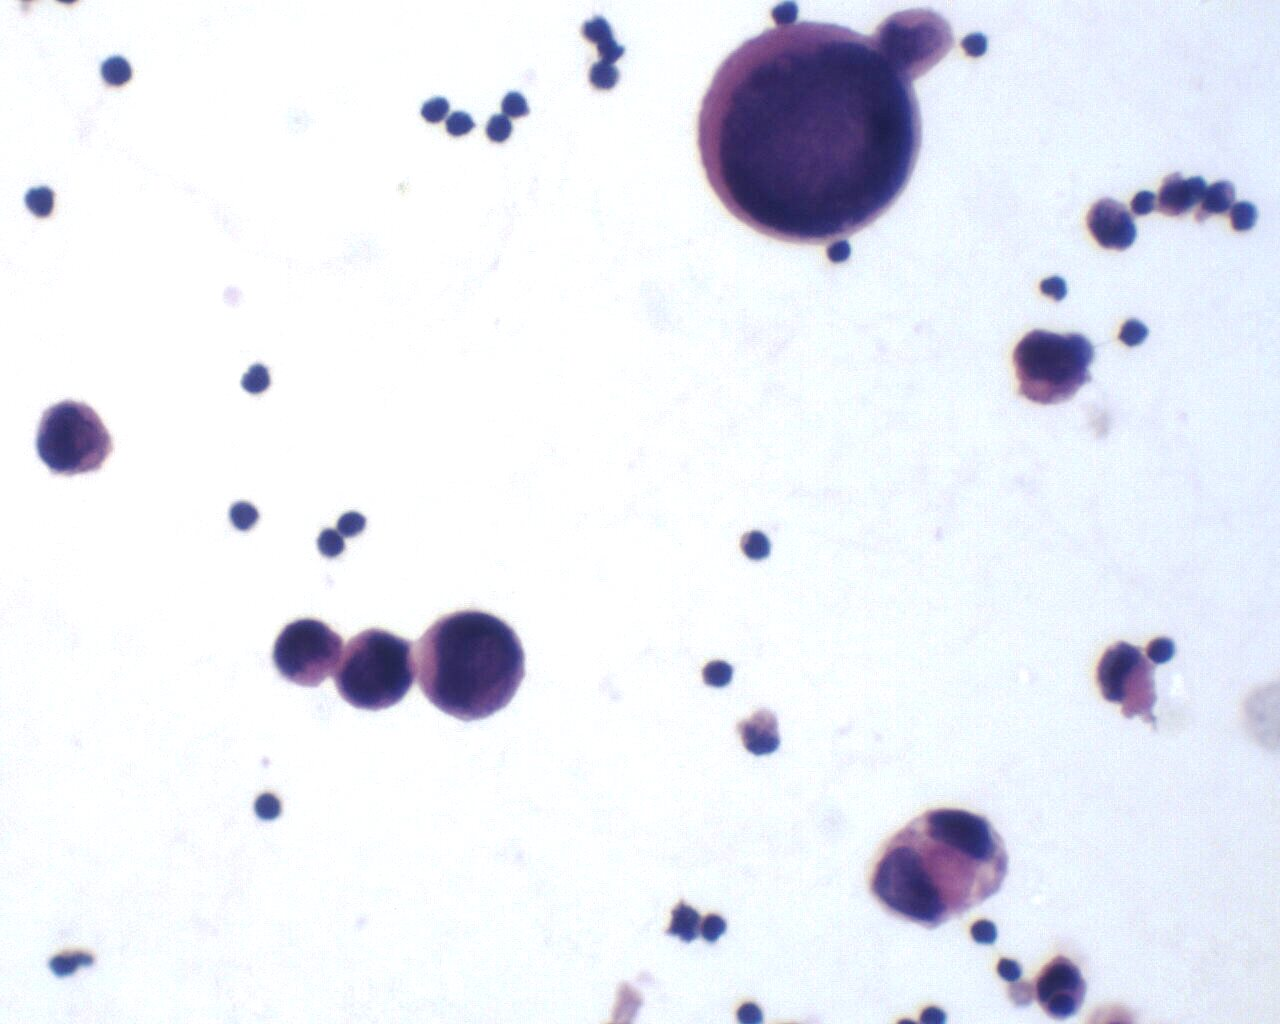ab: (693, 20, 926, 241), (859, 805, 1013, 926), (413, 609, 530, 730), (334, 618, 415, 712), (34, 397, 125, 478), (269, 615, 335, 696)
lymph: (1141, 630, 1184, 675), (97, 50, 136, 93), (335, 504, 377, 542), (700, 653, 738, 695), (225, 498, 266, 536), (245, 790, 280, 827), (969, 917, 1000, 951)
